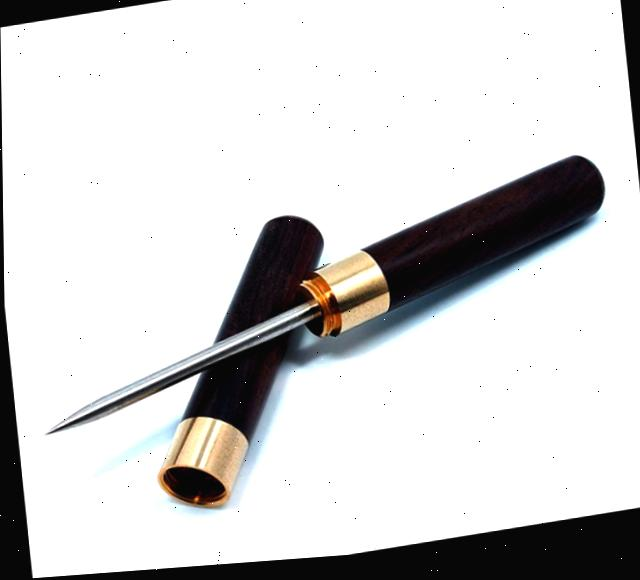ice pick: (22, 158, 620, 440)
